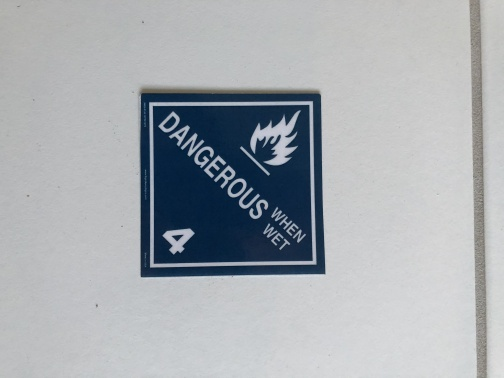DangerousWhenWet: (144, 96, 324, 267)
